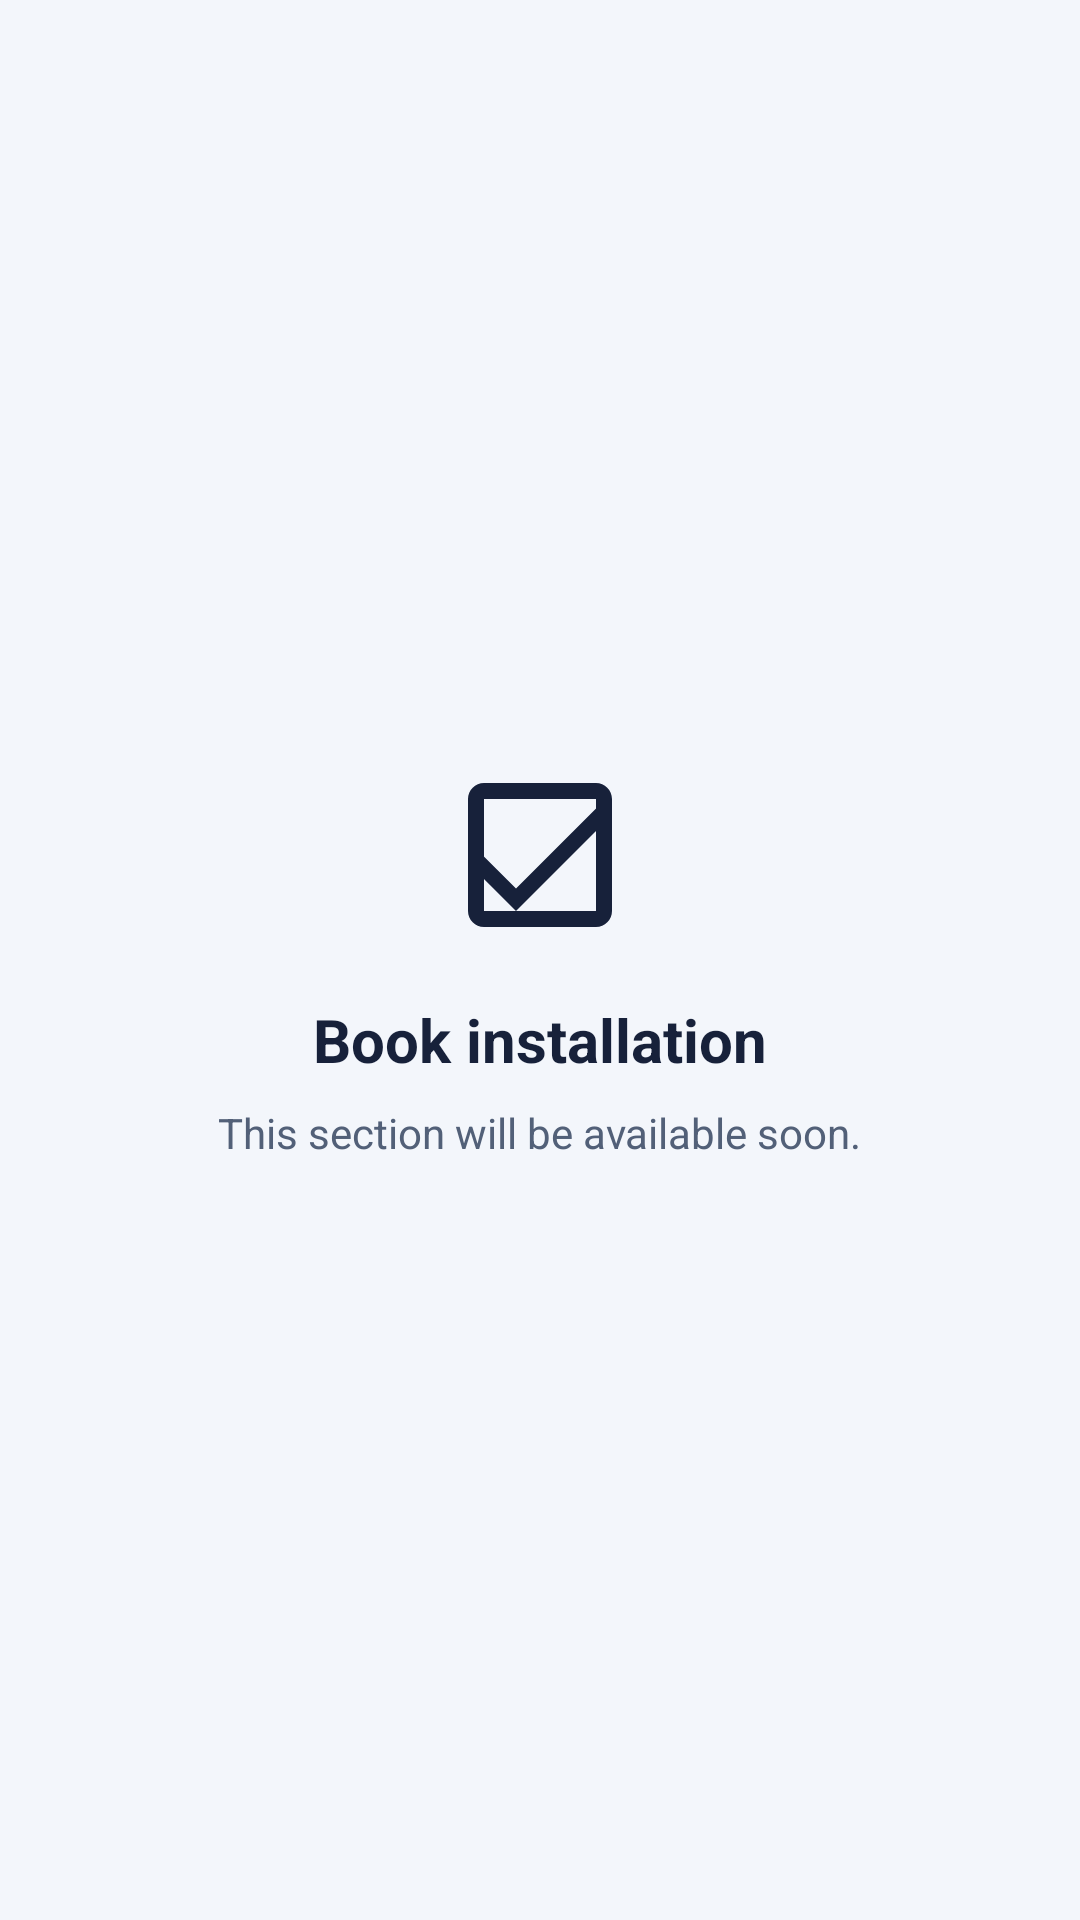

Icons on this 1080 x 1920 Android screen, each with its box as (x1, y1, x2, y2):
checklist: (468, 783, 612, 927)
